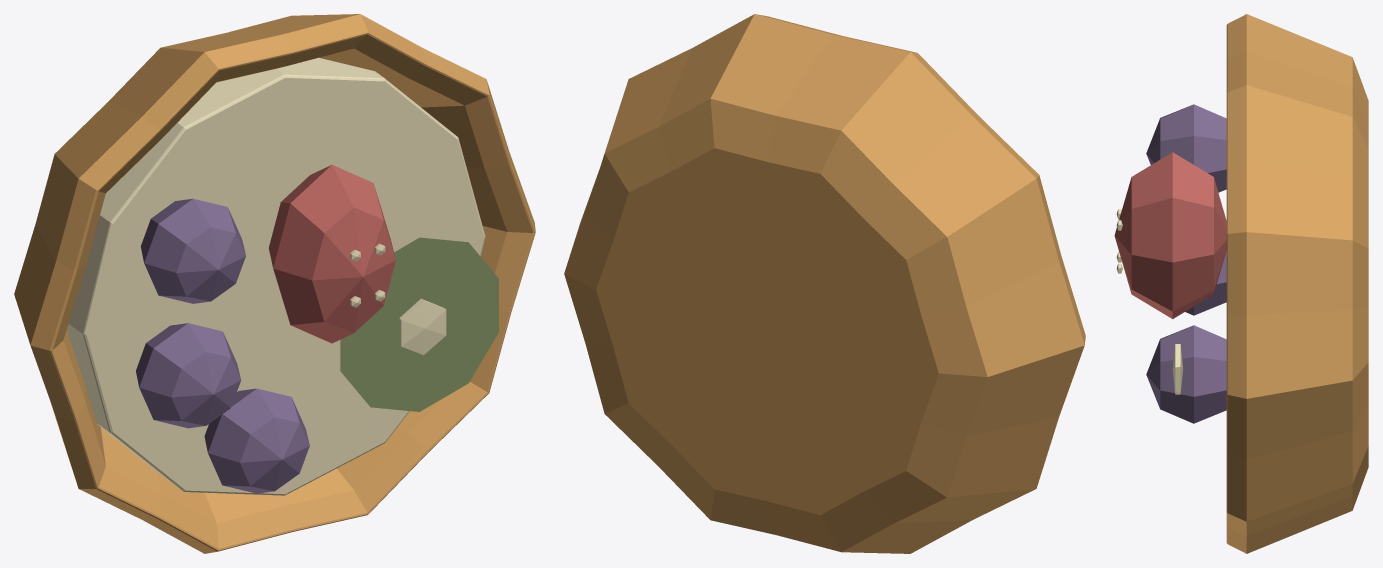
File: fruit_tart.glb
3 views of the same model, side by side, from view 1: azimuth 30°, elevation 25°; view 2: azimuth 150°, elevation 25°; view 3: azimuth 270°, elevation 25° (orthographic). The views are drawn at different scales.
Parts seen in each view (by area): view 1: fruit_tart; view 2: fruit_tart; view 3: fruit_tart.
Boxes of the visible parts, box(x1,y1,x2,y2) form: fruit_tart: box(14, 14, 535, 553); fruit_tart: box(564, 14, 1085, 553); fruit_tart: box(1114, 14, 1368, 553).
Size of the model in its own units: 0.1028 by 0.0978 by 0.048.
